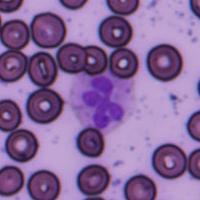N: (71, 70, 137, 134)
